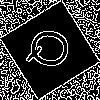Q: (25, 25, 81, 74)
